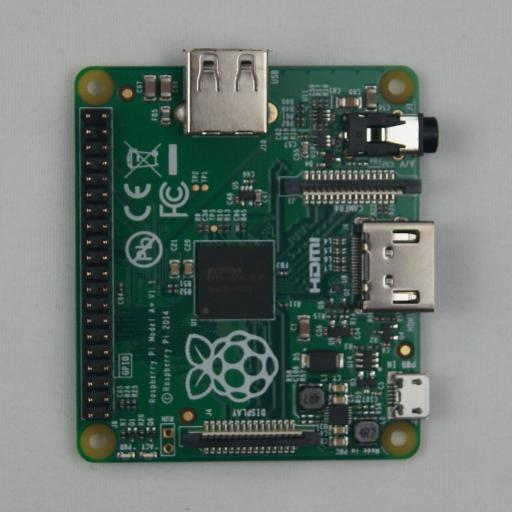Raspberry Pi A-: (74, 48, 438, 463)
